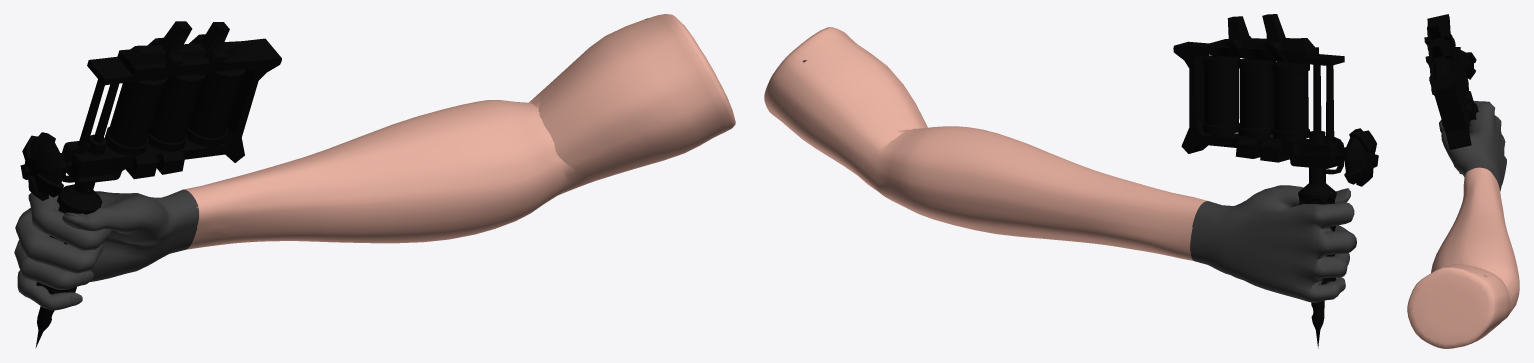
The model's file is npc_Tatgun05.fbx.
The picture shows the model from 3 angles, left to right: view 1: azimuth 30°, elevation 25°; view 2: azimuth 150°, elevation 25°; view 3: azimuth 270°, elevation 25°; orthographic projection. The views are drawn at different scales.
Parts seen in each view (by area): view 1: tatgun05; view 2: tatgun05; view 3: tatgun05.
Part boxes in pixels (left/top/right/bottom): tatgun05: left=14, top=14, right=735, bottom=347; tatgun05: left=764, top=14, right=1378, bottom=348; tatgun05: left=1407, top=14, right=1519, bottom=348.
Size of the model in its own units: 414 by 191 by 90.94.
2 materials, 1 textured.
